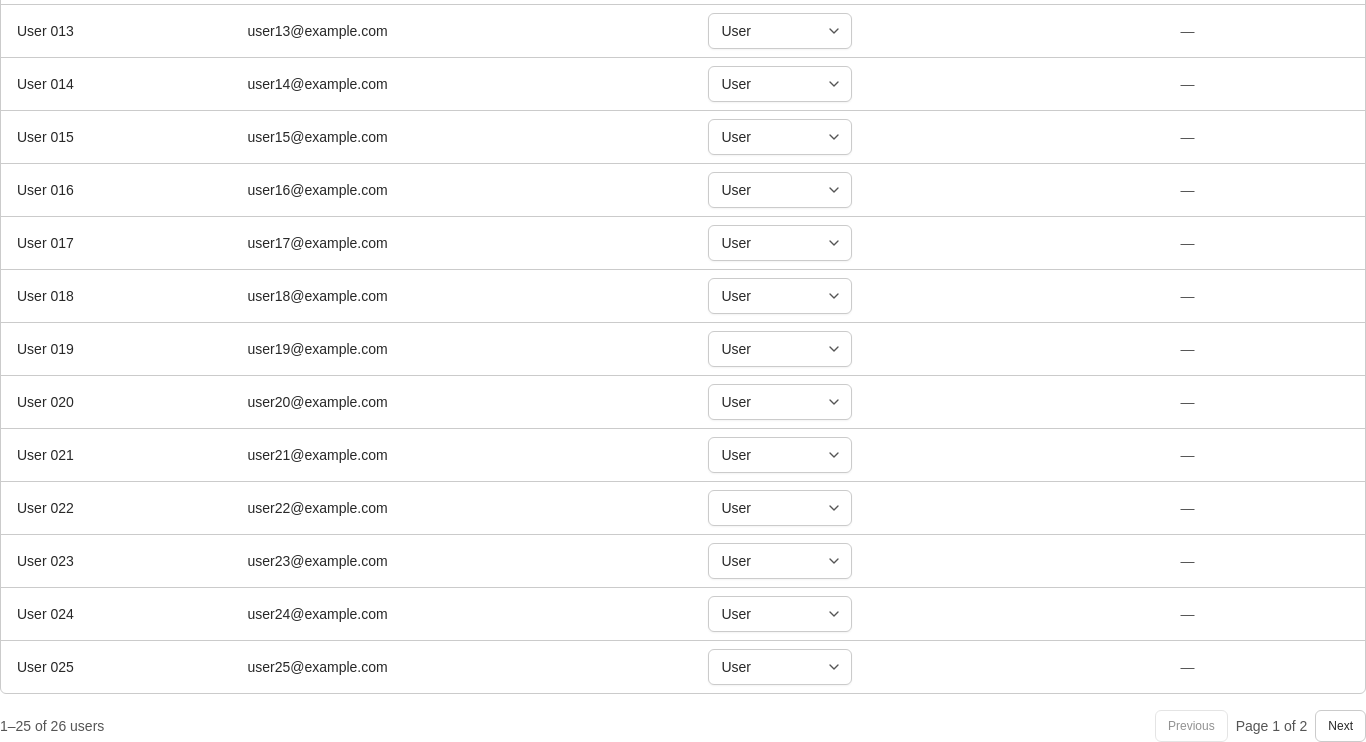
Test case: UsersTableClient — pagination › advances to page 2 and disables Next on the last page
(page scrolled)
Click the button "Next": coordinates (1341, 726) [1315,710,1365,741]
(page scrolled)
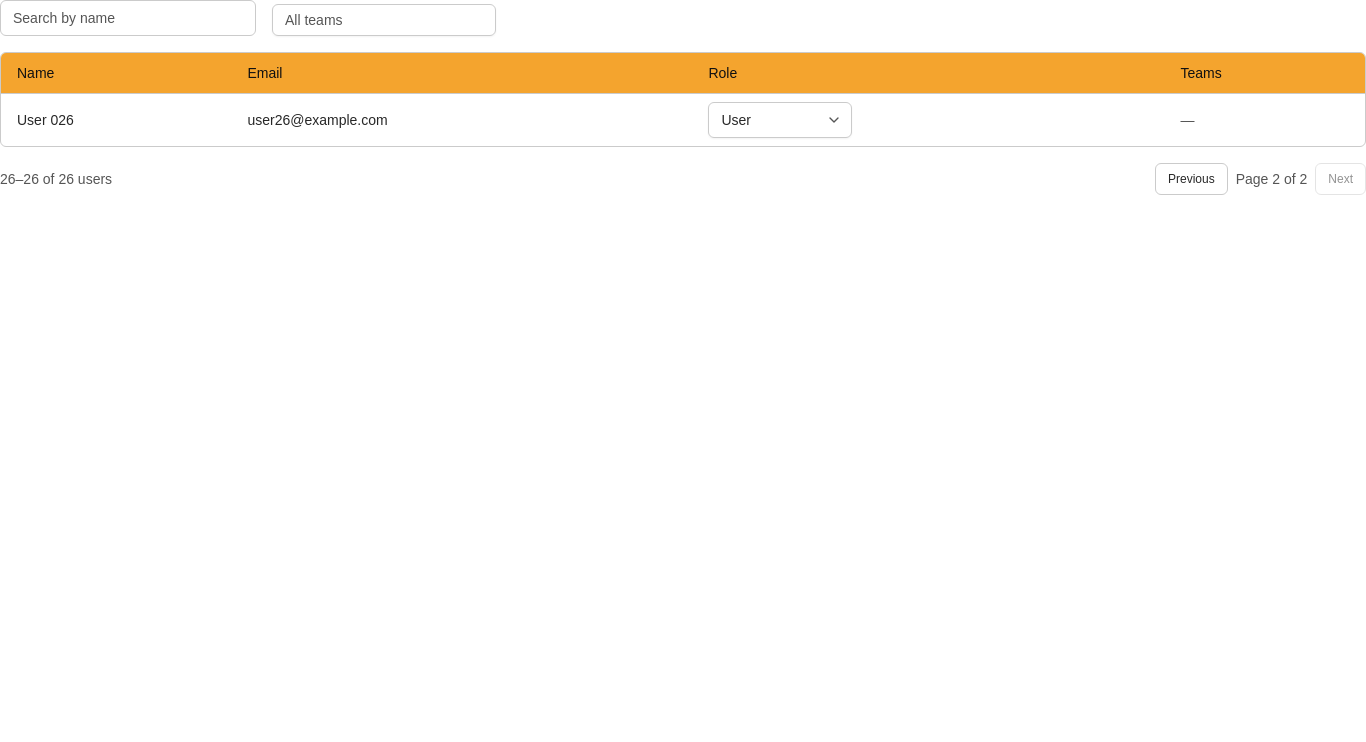
Expected: the text "26–26 of 26 users" is shown, [0,168,112,188]
Expected: the button "Next" is disabled, [1315,162,1365,194]
Expected: the button "Previous" is enabled, [1155,162,1228,194]
